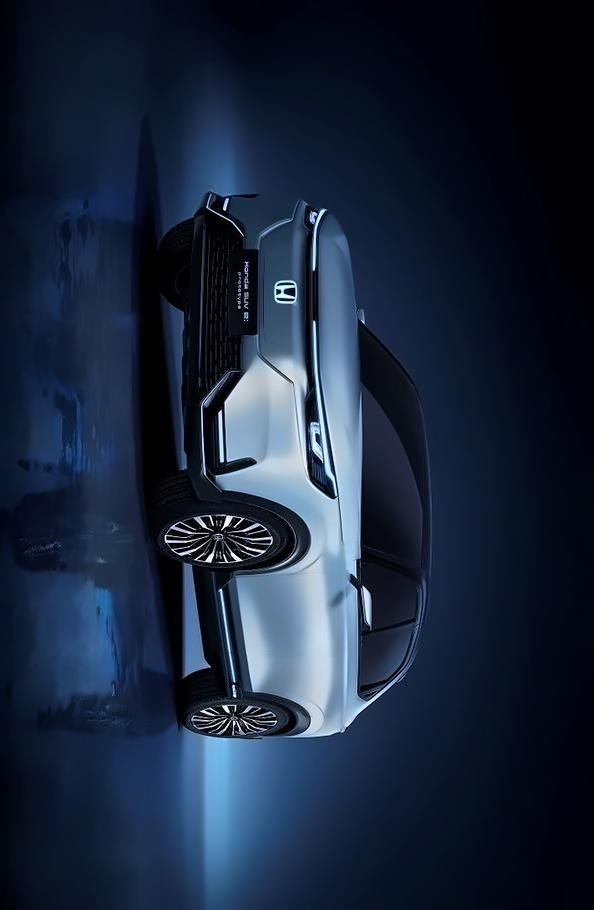Car hood: (311, 208, 359, 511)
Fender - -F-L-: (216, 493, 373, 578)
Fender - -R-L-: (230, 695, 351, 730)
Front bumper: (179, 178, 298, 518)
Headlight - -L-: (298, 406, 345, 505)
Headlight - -R-: (297, 195, 329, 235)
Passenger-s door - -F-L-: (217, 578, 428, 633)
Passenger-s door - -R-L-: (228, 631, 414, 694)
Rear bumper: (247, 725, 319, 753)
Side bumper - -L-: (189, 561, 260, 701)
Side mirror - -L-: (347, 575, 380, 632)
Side mirror - -R-: (343, 295, 376, 327)
